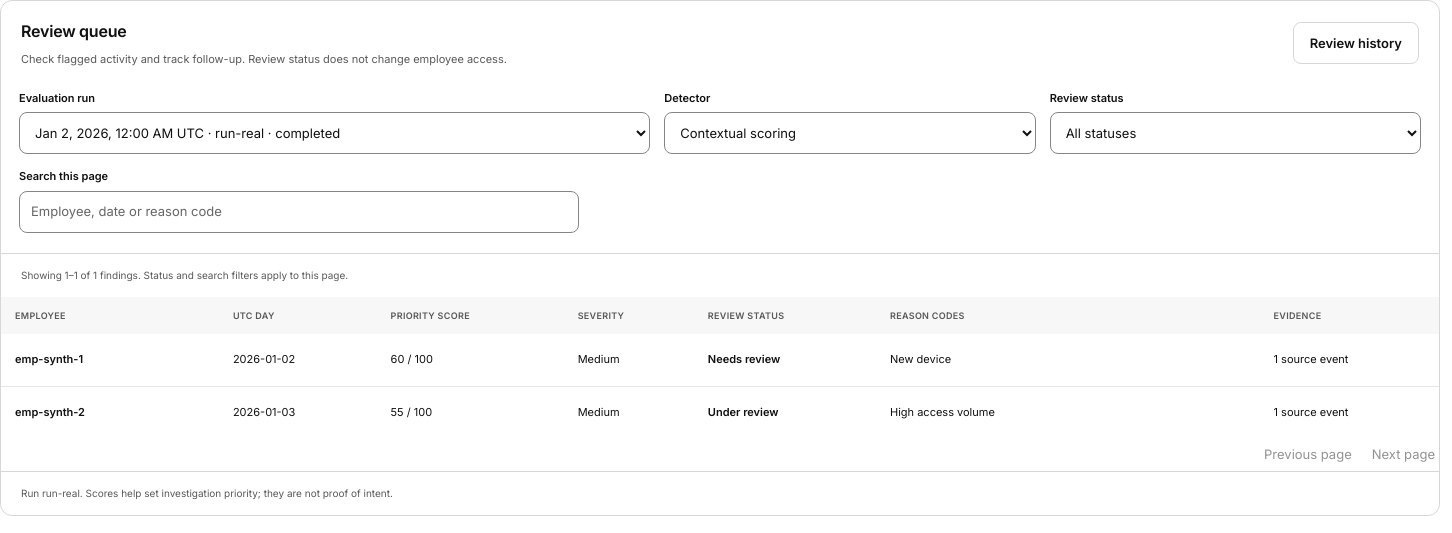
Test: investigation list › shows saved review status and filters the review queue
This screenshot has width=1452, height=533.
Expected: the link "emp-synth-1" is shown, [15,352,83,366]
Expected: the text "New device" is shown, [876,334,1260,386]
Select "Under review" in the dropdown labelled "Review status". click: (1235, 133)
box: [1050,112,1421,154]
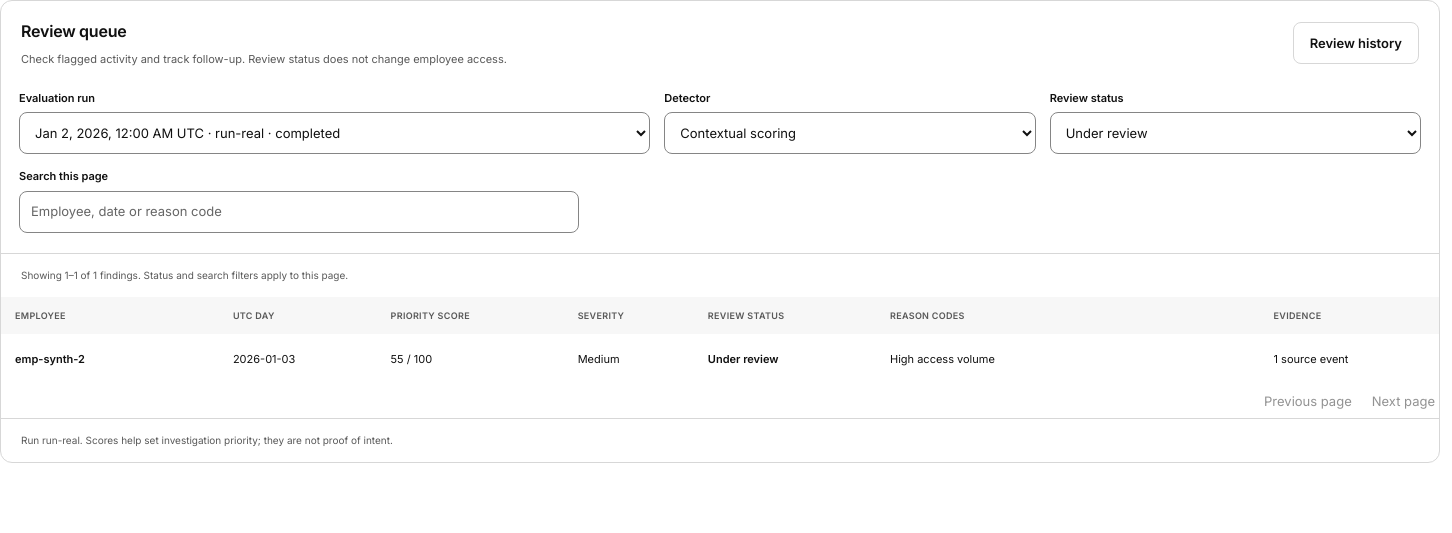
Expected: the link "emp-synth-2" is shown, [15,352,85,366]
Expected: the link "emp-synth-1" is gone
